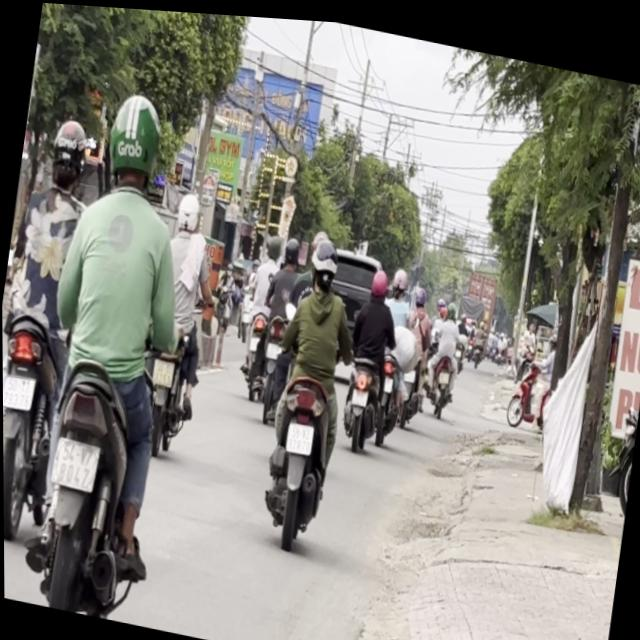helmet: (97, 84, 168, 198), (43, 113, 90, 197), (305, 228, 342, 289), (172, 186, 200, 230)
licenseplate: (12, 75, 218, 629), (1, 100, 98, 540), (247, 217, 366, 548), (137, 182, 226, 459)
nohelmet: (48, 434, 98, 492), (2, 372, 33, 410), (283, 416, 314, 452), (150, 354, 174, 385)
